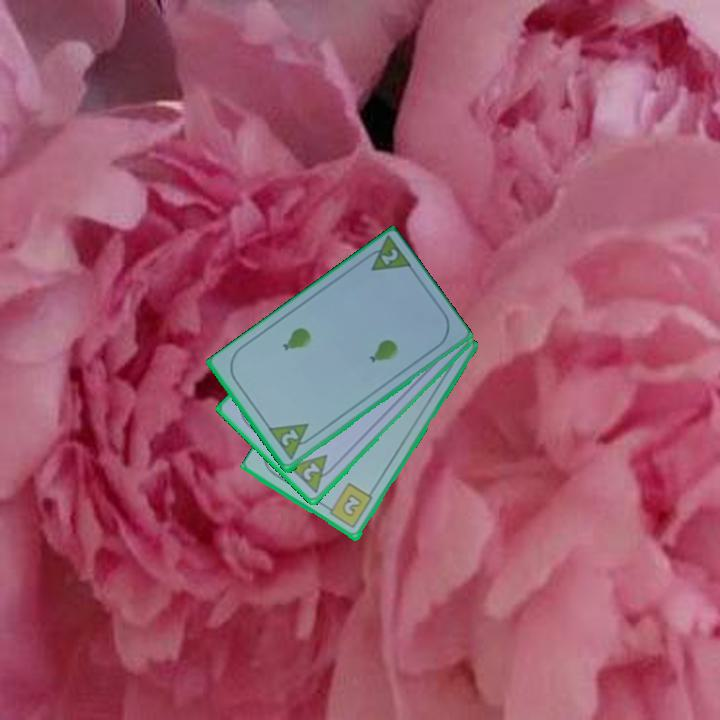2b: (322, 480, 376, 532)
2p: (285, 451, 340, 497), (359, 234, 415, 275), (266, 420, 319, 463)
